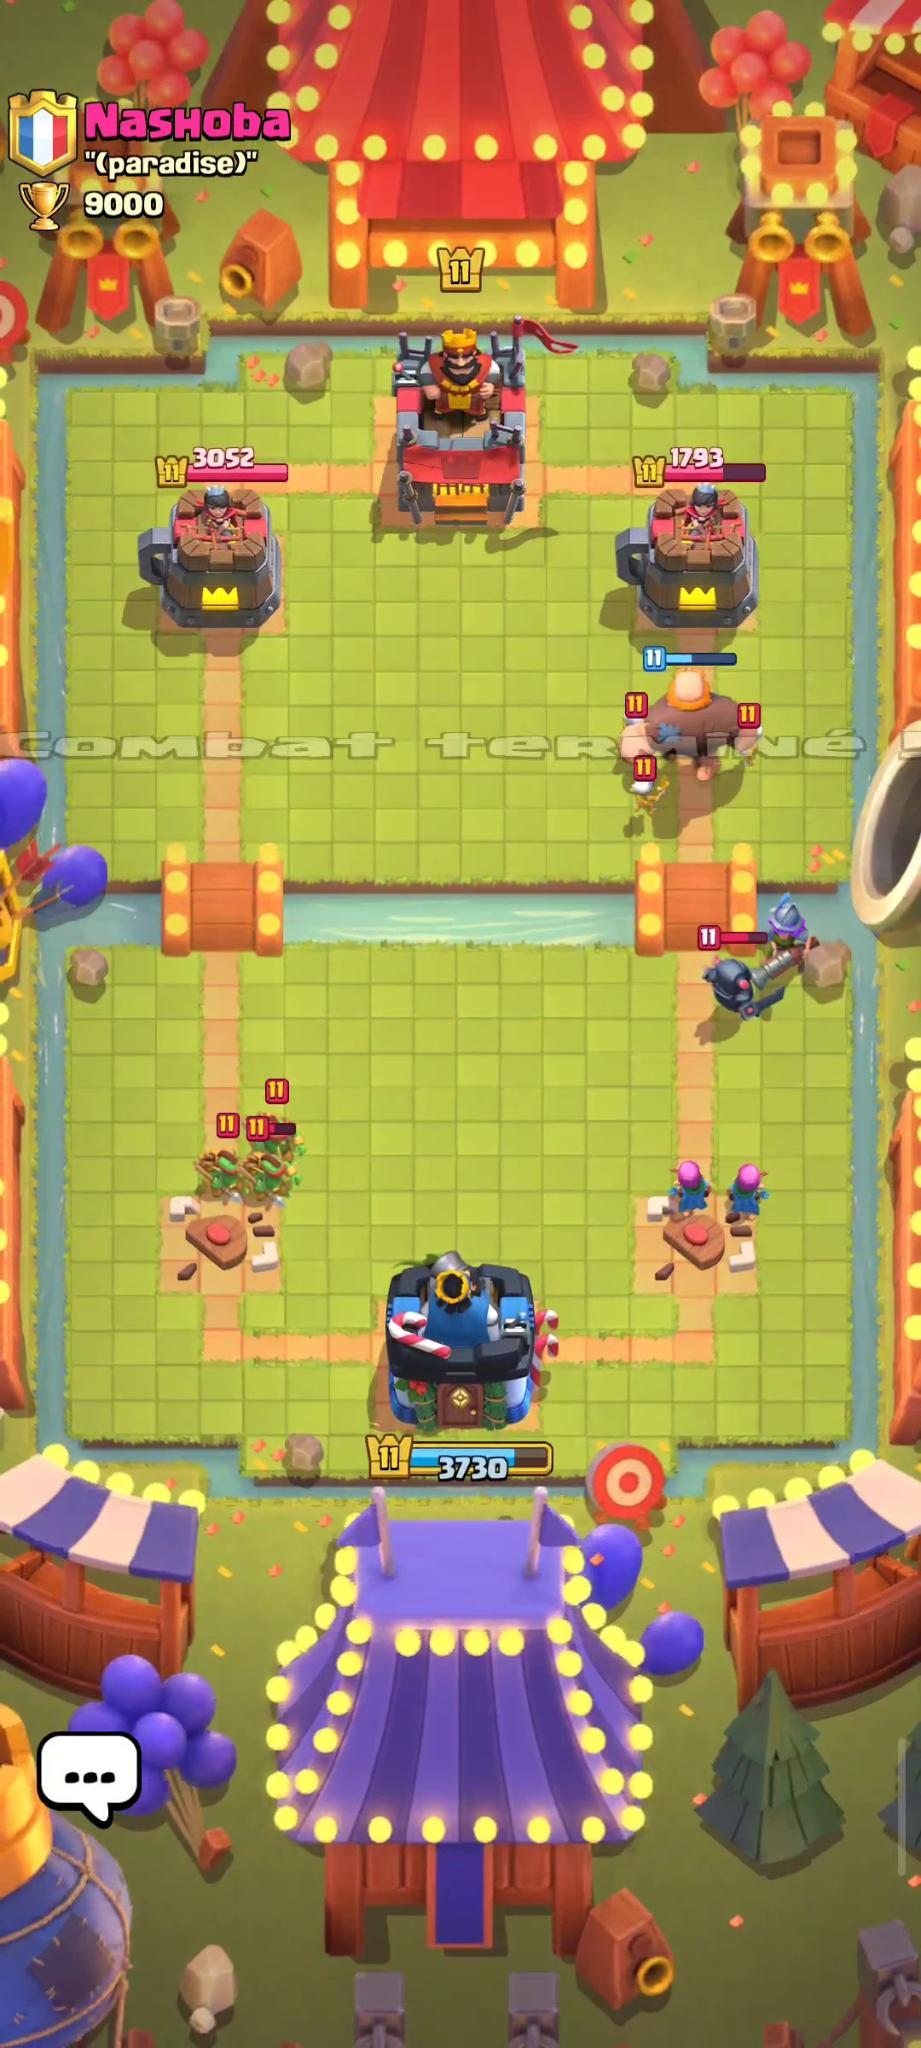archere: (730, 1162, 780, 1219), (673, 1170, 711, 1215)
geant: (641, 670, 745, 769)
gobelin_lances: (256, 1108, 306, 1161), (212, 1134, 239, 1192), (257, 1148, 289, 1196)
mini_PEKKA: (696, 938, 772, 1023)
mousquetaire: (758, 888, 823, 977)
squelette: (730, 704, 766, 765), (623, 761, 665, 811), (617, 697, 657, 747)
